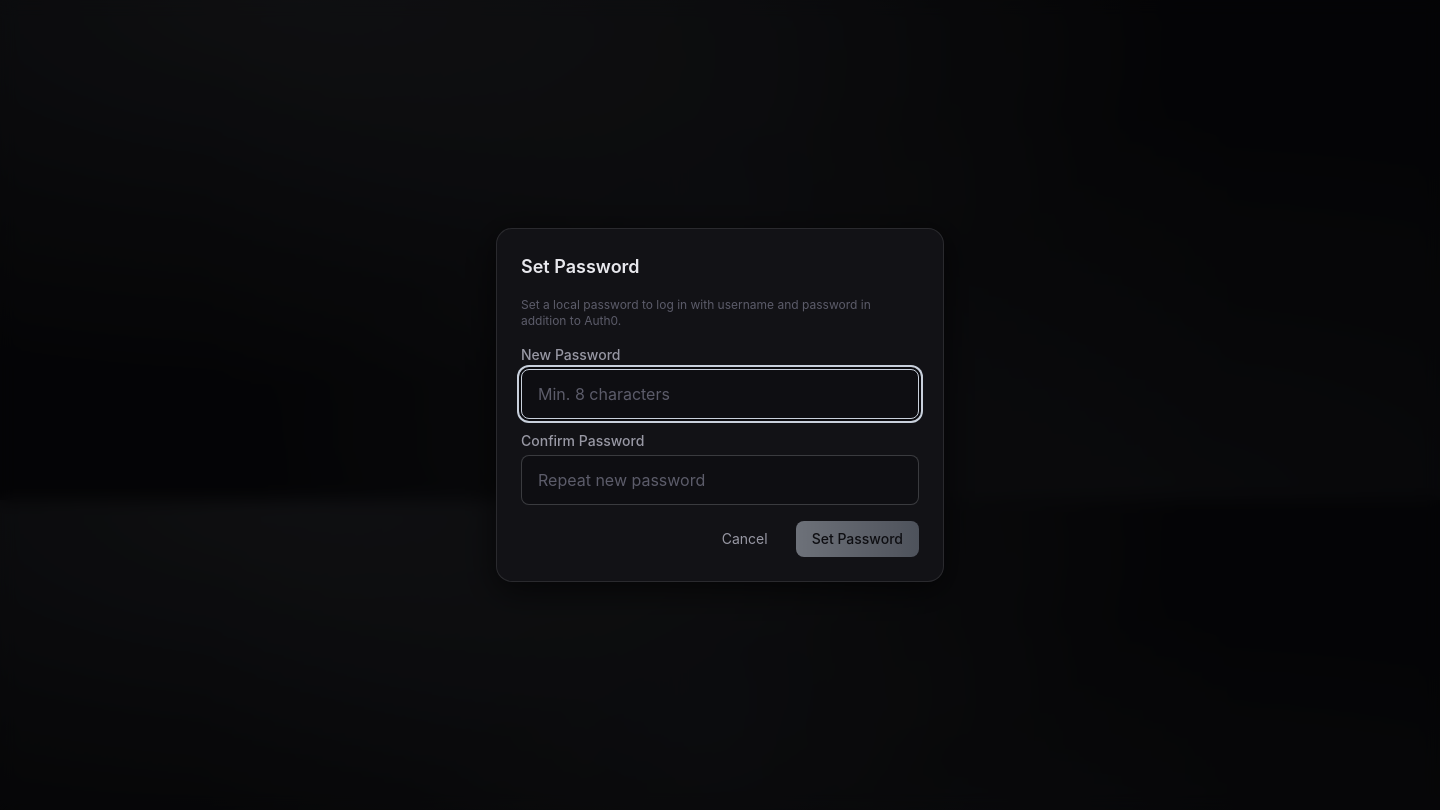
Test: ChangePasswordModal › should disable submit when passwords do not match
Type "password123" into the password field labelled "New Password".
click(720, 394); type("password123")  # box [521, 369, 919, 419]
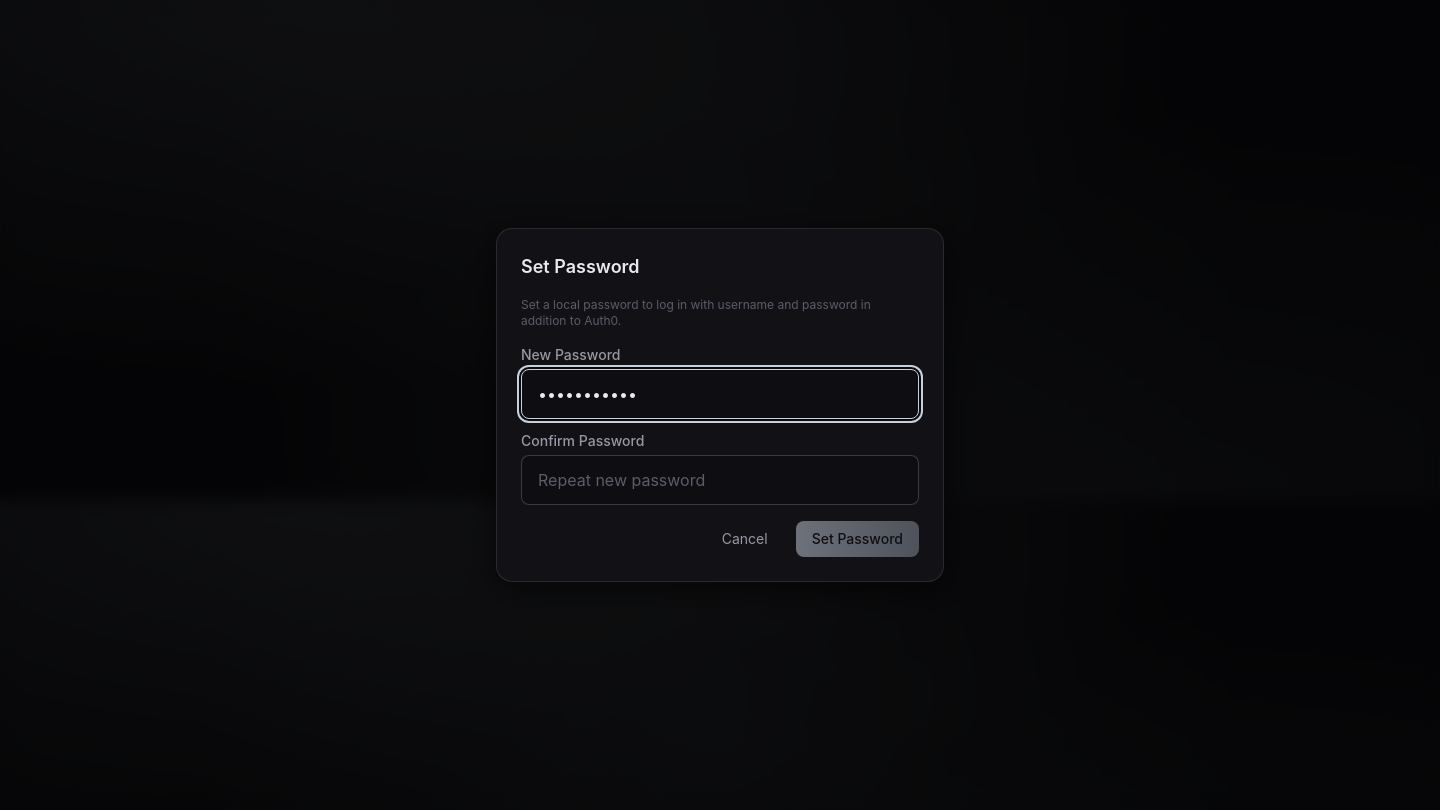
Type "different12" into the password field labelled "Confirm Password".
click(720, 480); type("different12")  # box [521, 455, 919, 505]
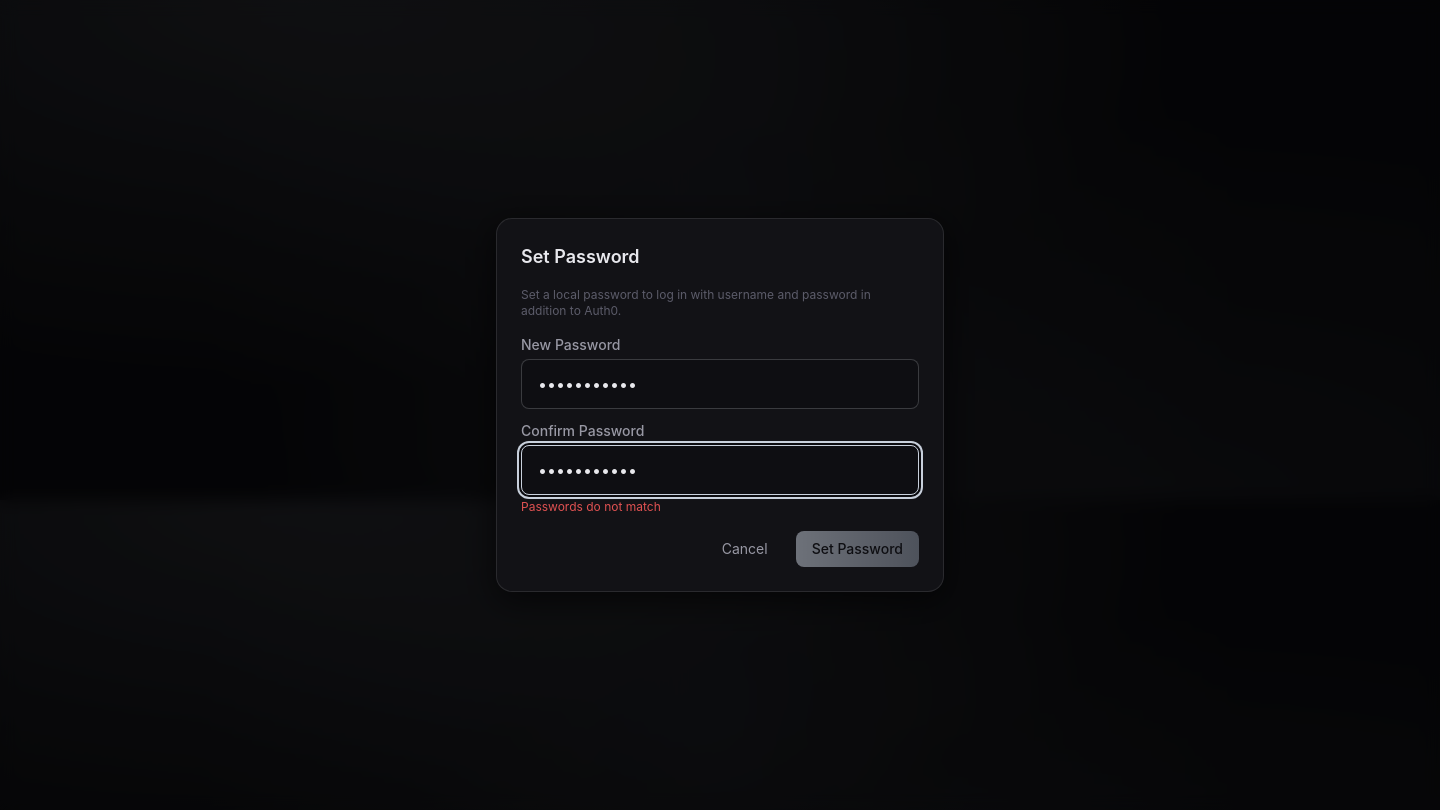
Expected: the button "Set Password" is disabled, [796, 531, 919, 567]
Now the text "Passwords do not match" is shown, box [521, 499, 661, 514]
